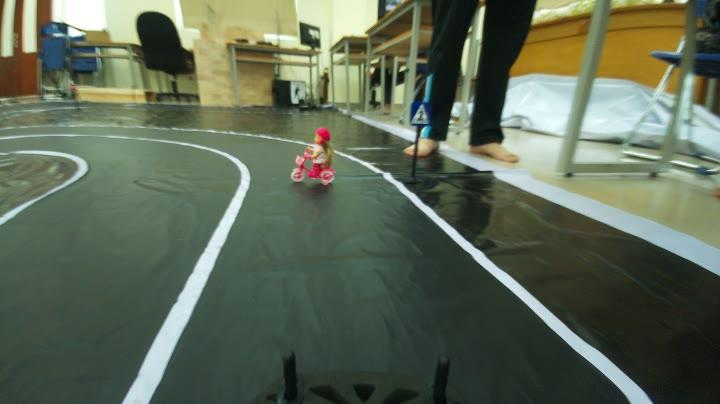crosswalk: (406, 99, 432, 128)
pedestrian: (292, 127, 339, 185)
